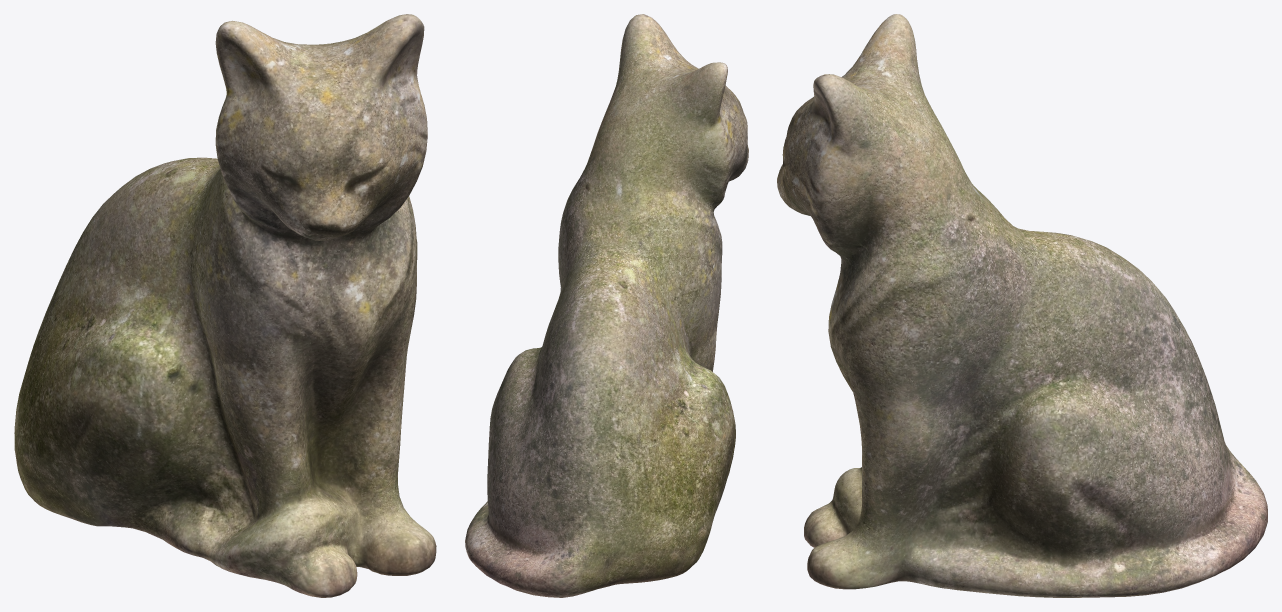
Rendered from cat.glb.
The picture shows the model from 3 angles, left to right: view 1: azimuth 30°, elevation 25°; view 2: azimuth 150°, elevation 25°; view 3: azimuth 270°, elevation 25°; orthographic projection. The views are drawn at different scales.
Visible parts, largest first — view 1: concrete_cat_statue; view 2: concrete_cat_statue; view 3: concrete_cat_statue.
Boxes of the visible parts, x1,y1,x2,y2 form: concrete_cat_statue: (14, 14, 436, 597); concrete_cat_statue: (465, 14, 748, 597); concrete_cat_statue: (777, 14, 1267, 597).
Bounding box in the file's own units: 0.1529 × 0.283 × 0.25.
Materials: 1 (1 with a texture image).
